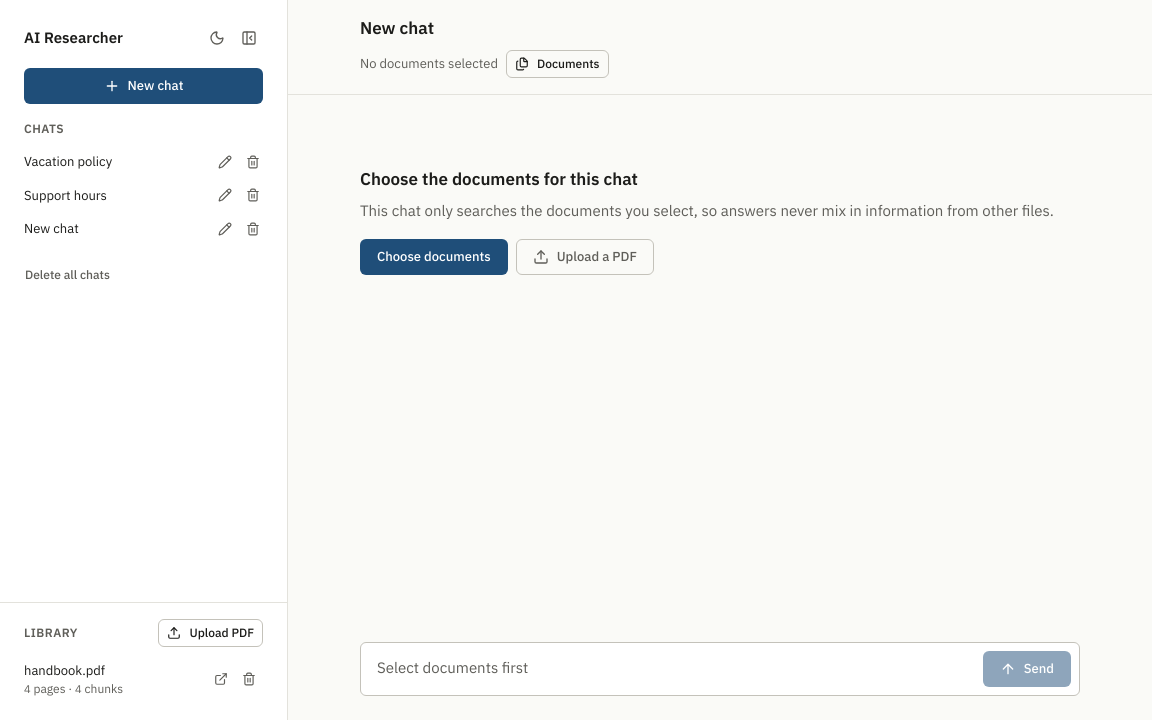
Test: Sidebar › asks before deleting all chats, and says how many
The width and height of the screenshot is (1152, 720).
Click the button "Delete all chats": coordinates (67, 274) 16,260 -> 119,288
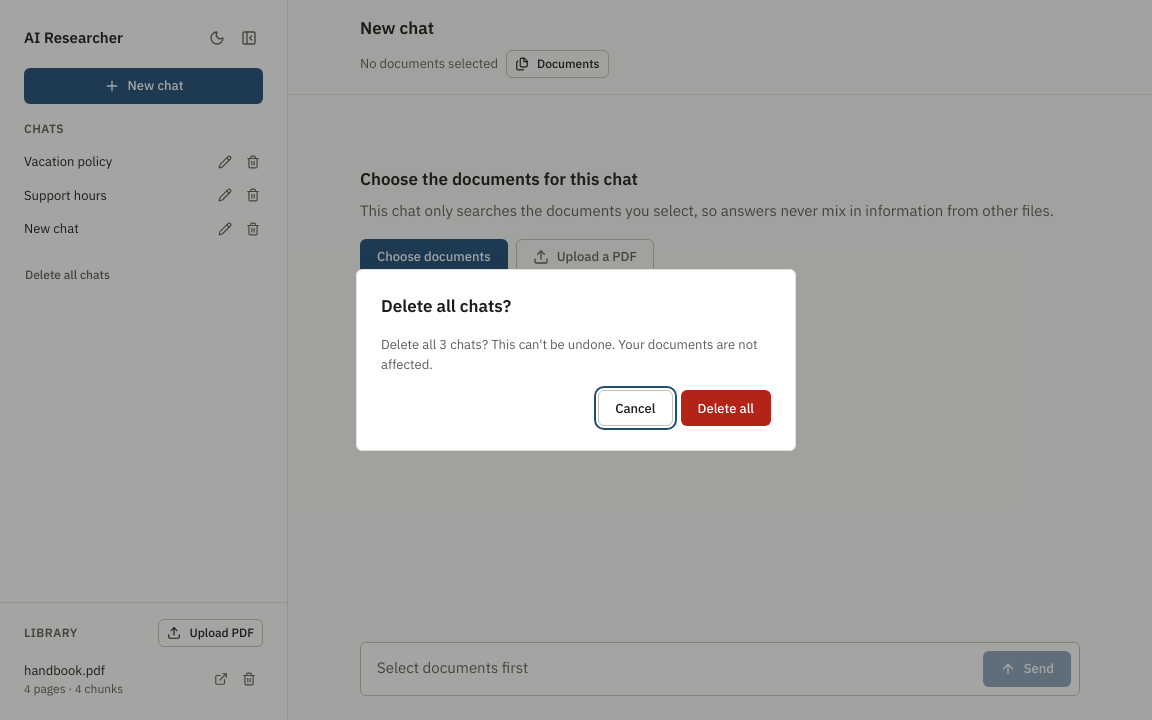
expect the dialog shows "Delete all 3 chats? This can't be undone. Your documents are not affected.": met, box 381,336 -> 758,373
Click the button "Delete all": coordinates (726, 408) 680,390 -> 771,426
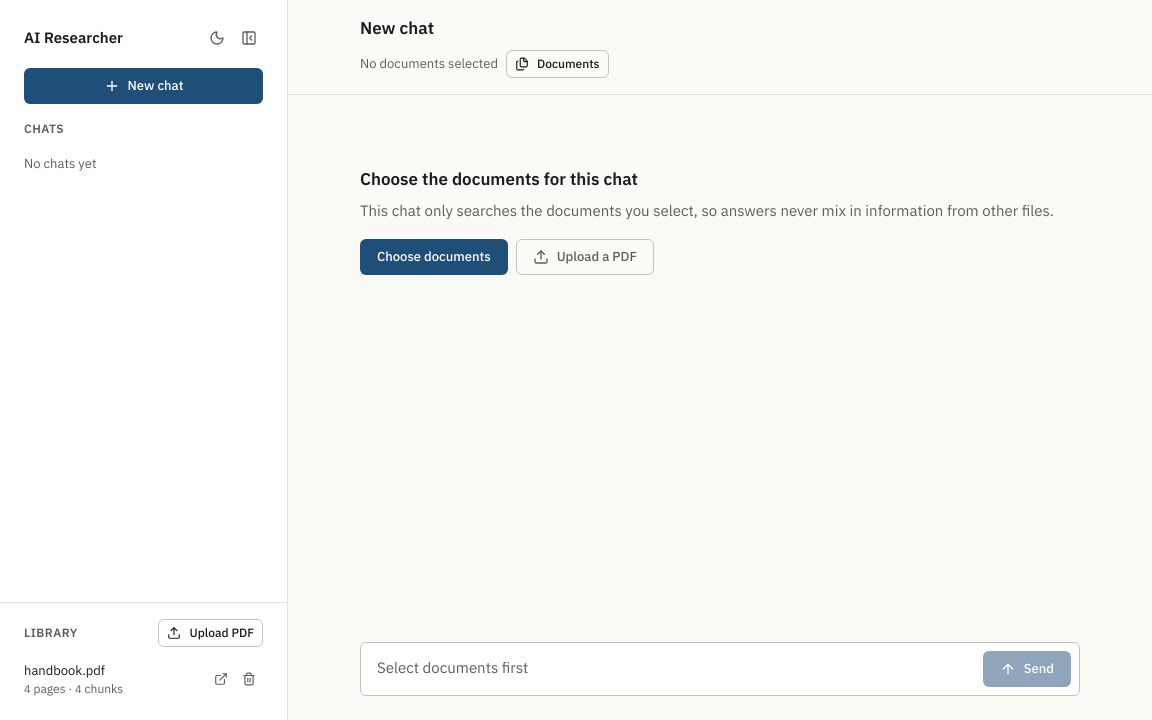
expect the text "handbook.pdf" is shown: met, box 24,662 -> 105,678
expect the text "No chats yet" is shown: met, box 24,155 -> 96,172
